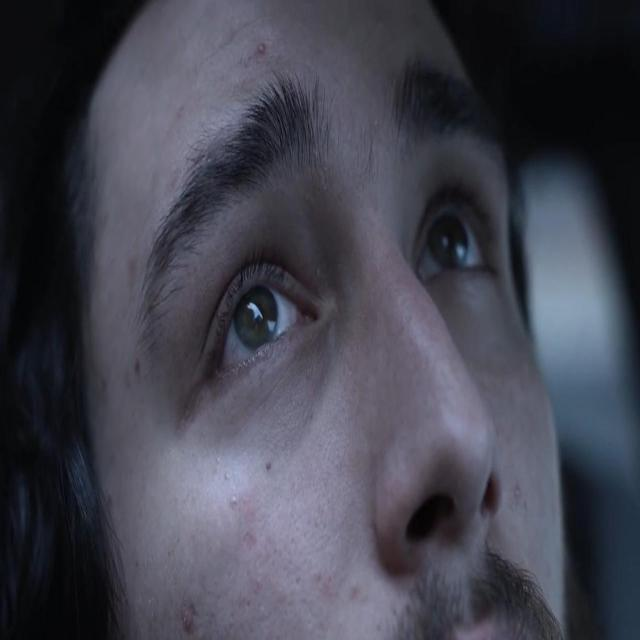no-helmet: (78, 8, 570, 640)
